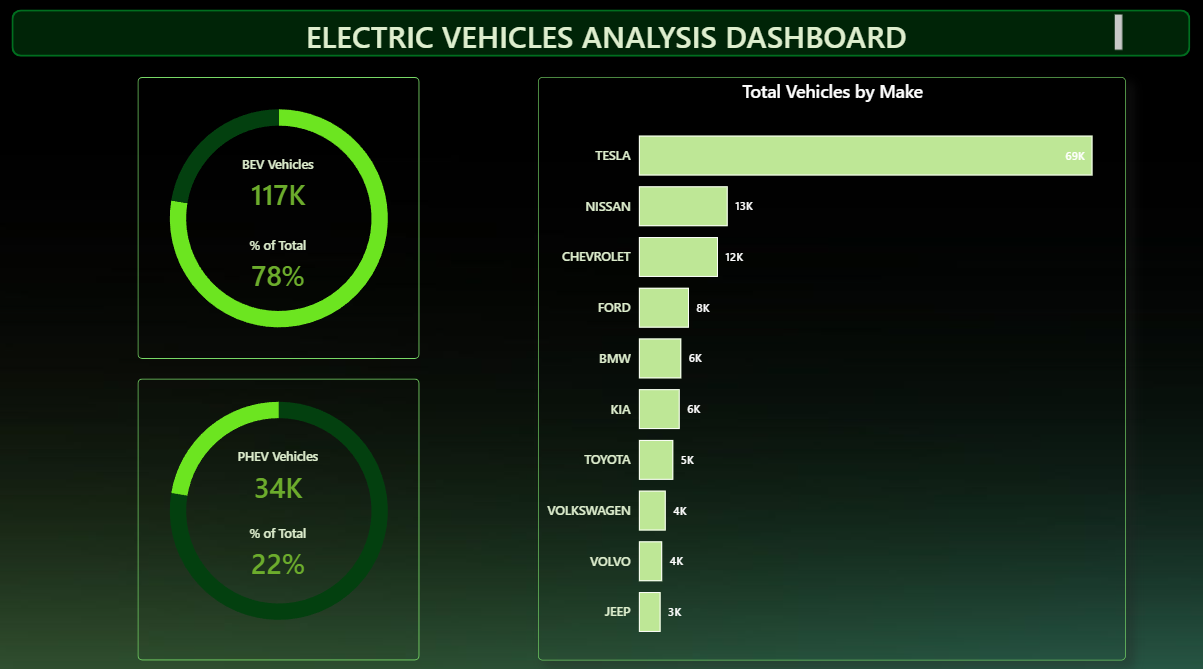

The page's visual inventory and layout, read from the dashboard file:
{"tool":"powerbi","page":{"name":"Page 2","canvas":[1280,720],"ordinal":1},"visuals":[{"type":"shape","box":[15,11.7,1250,50],"z":0},{"type":"textbox","box":[100,11.7,1096.7,50],"z":1000},{"type":"barChart","fields":{"Y":["Electric_Vehicle_Population_Data.Total Vehicles"],"Category":["Electric_Vehicle_Population_Data.Make"]},"box":[572.6,82.7,623.5,618.7],"z":2000},{"type":"donutChart","fields":{"Category":["Electric_Vehicle_Population_Data.Electric Vehicle Type"],"Y":["Electric_Vehicle_Population_Data.Total Vehicles"]},"box":[100.2,82.7,394.5,299],"z":3000},{"type":"card","title":"BEV Vehicles","fields":{"Values":["Electric_Vehicle_Population_Data.BEV Vehicles"]},"box":[179.7,165.4,233.8,66.8],"z":4000},{"type":"card","title":"% of Total","fields":{"Values":["Electric_Vehicle_Population_Data.% of BEV"]},"box":[179.7,251.3,233.8,66.8],"z":5000},{"type":"donutChart","fields":{"Category":["Electric_Vehicle_Population_Data.Electric Vehicle Type"],"Y":["Electric_Vehicle_Population_Data.Total Vehicles"]},"box":[100.2,392.9,394.5,299],"z":6000},{"type":"card","title":"PHEV Vehicles","fields":{"Values":["Electric_Vehicle_Population_Data.PHEV Vehicles"]},"box":[179.7,475.6,233.8,66.8],"z":7000},{"type":"card","title":"% of Total","fields":{"Values":["Electric_Vehicle_Population_Data.% of PHEV"]},"box":[179.7,556.7,233.8,66.8],"z":8000},{"type":"shape","box":[147.9,82.7,299,299],"z":9000},{"type":"shape","box":[147.9,402.4,299,299],"z":10000}]}

Visuals, with their boxes in screenshot pixels (x1, y1, x2, y2), scaled from the page's 1280x720 canvas onto the 1203x669 screenshot:
shape: x1=14, y1=11, x2=1189, y2=57
textbox: x1=94, y1=11, x2=1125, y2=57
barChart - Electric_Vehicle_Population_Data.Total Vehicles x Electric_Vehicle_Population_Data.Make: x1=538, y1=77, x2=1124, y2=652
donutChart - Electric_Vehicle_Population_Data.Electric Vehicle Type x Electric_Vehicle_Population_Data.Total Vehicles: x1=94, y1=77, x2=465, y2=355
"BEV Vehicles" card: x1=169, y1=154, x2=389, y2=216
"% of Total" card: x1=169, y1=233, x2=389, y2=296
donutChart - Electric_Vehicle_Population_Data.Electric Vehicle Type x Electric_Vehicle_Population_Data.Total Vehicles: x1=94, y1=365, x2=465, y2=643
"PHEV Vehicles" card: x1=169, y1=442, x2=389, y2=504
"% of Total" card: x1=169, y1=517, x2=389, y2=579
shape: x1=139, y1=77, x2=420, y2=355
shape: x1=139, y1=374, x2=420, y2=652
